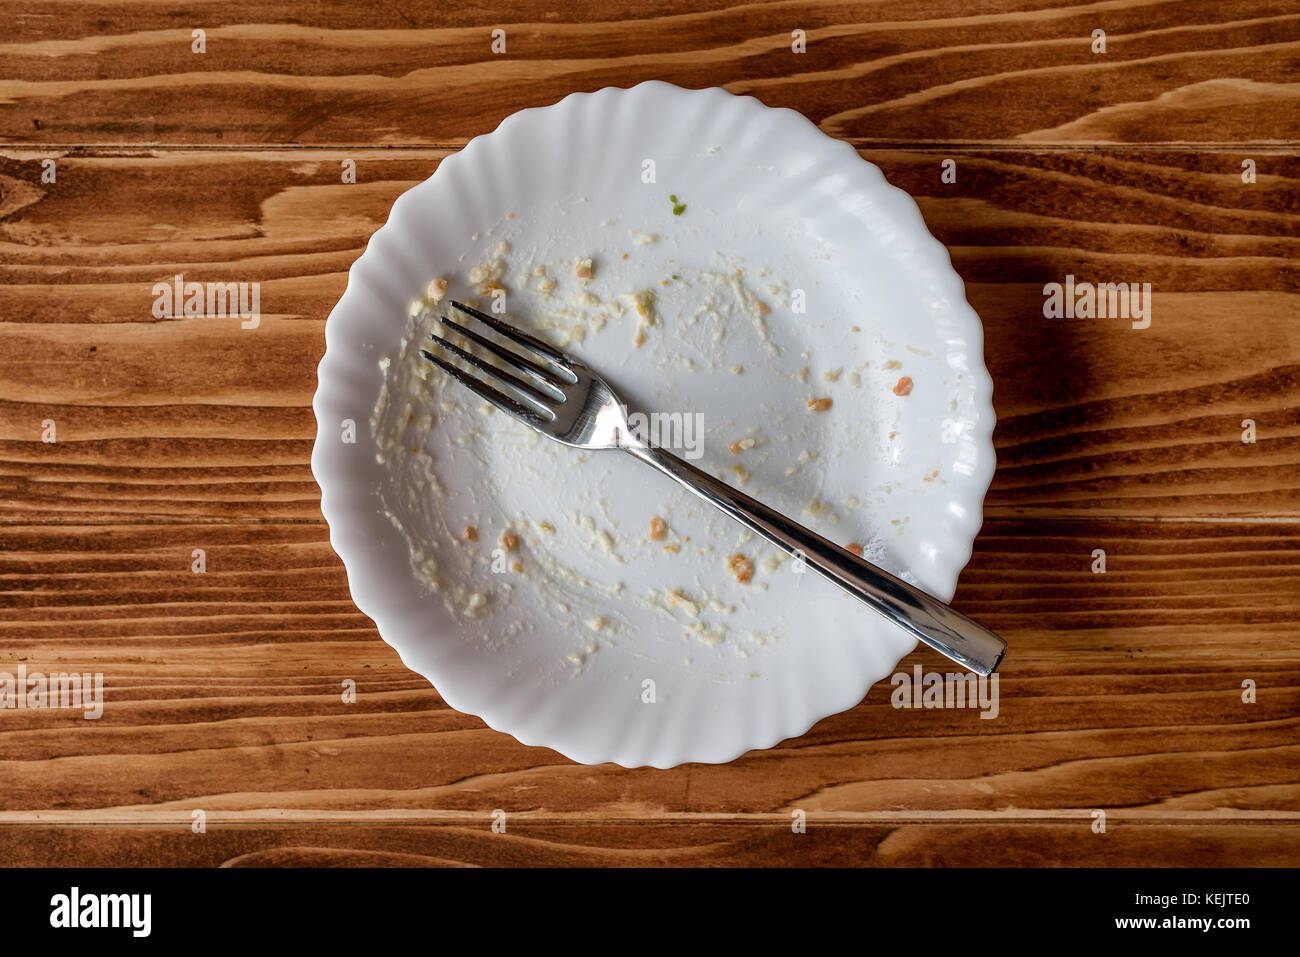plate: (302, 72, 1009, 777)
